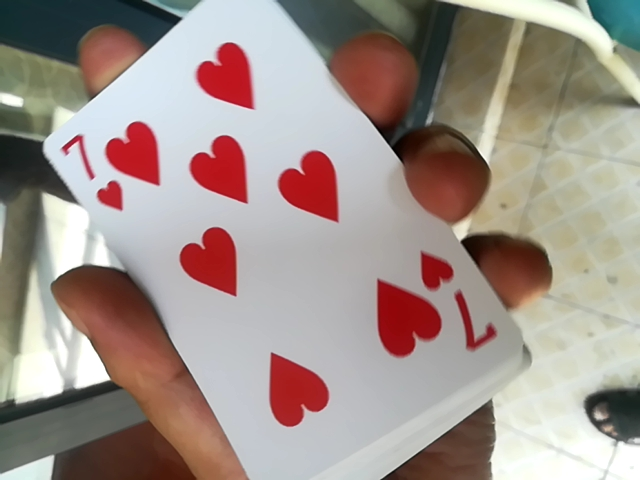hx 7: (47, 4, 486, 477)
